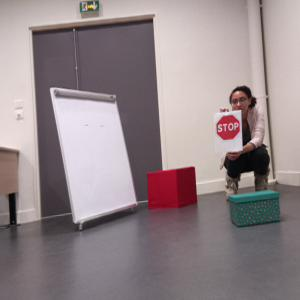stop: (216, 115, 240, 141)
